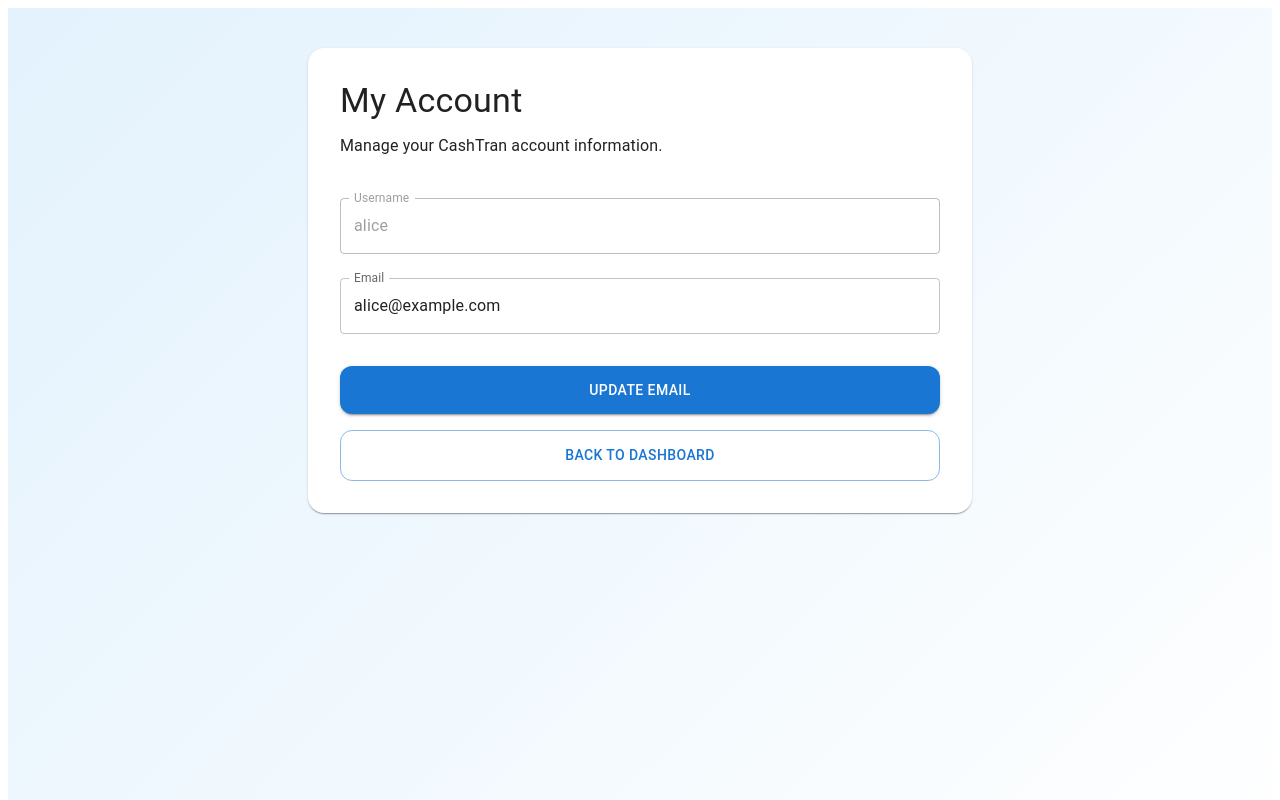
MyAccount › displays success message after successful email update
This screenshot has width=1280, height=800.
Step 1. Replace the text in the field labelled "Email" with "new@example.com" → coordinates (640, 306), box x1=340 y1=278 x2=940 y2=334
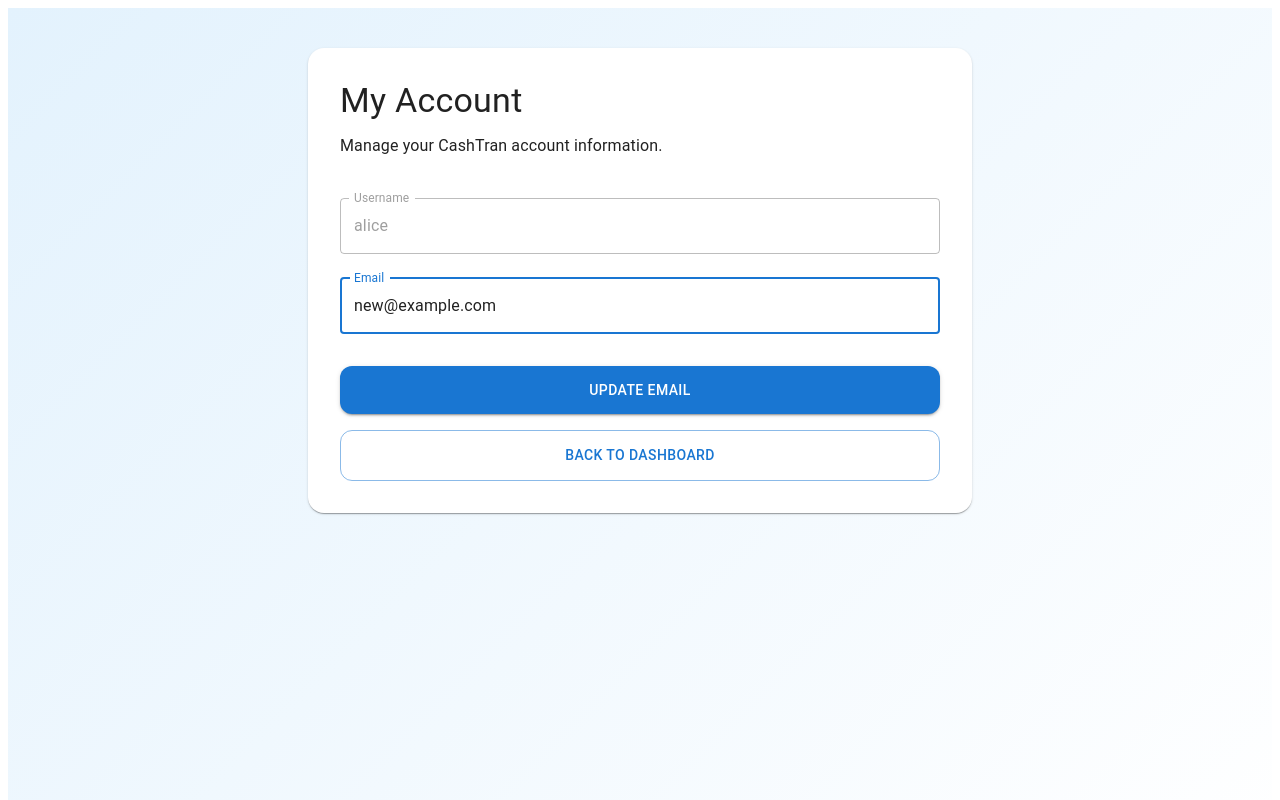
Step 2. Click the button "Update Email" → coordinates (640, 390), box x1=340 y1=366 x2=940 y2=414
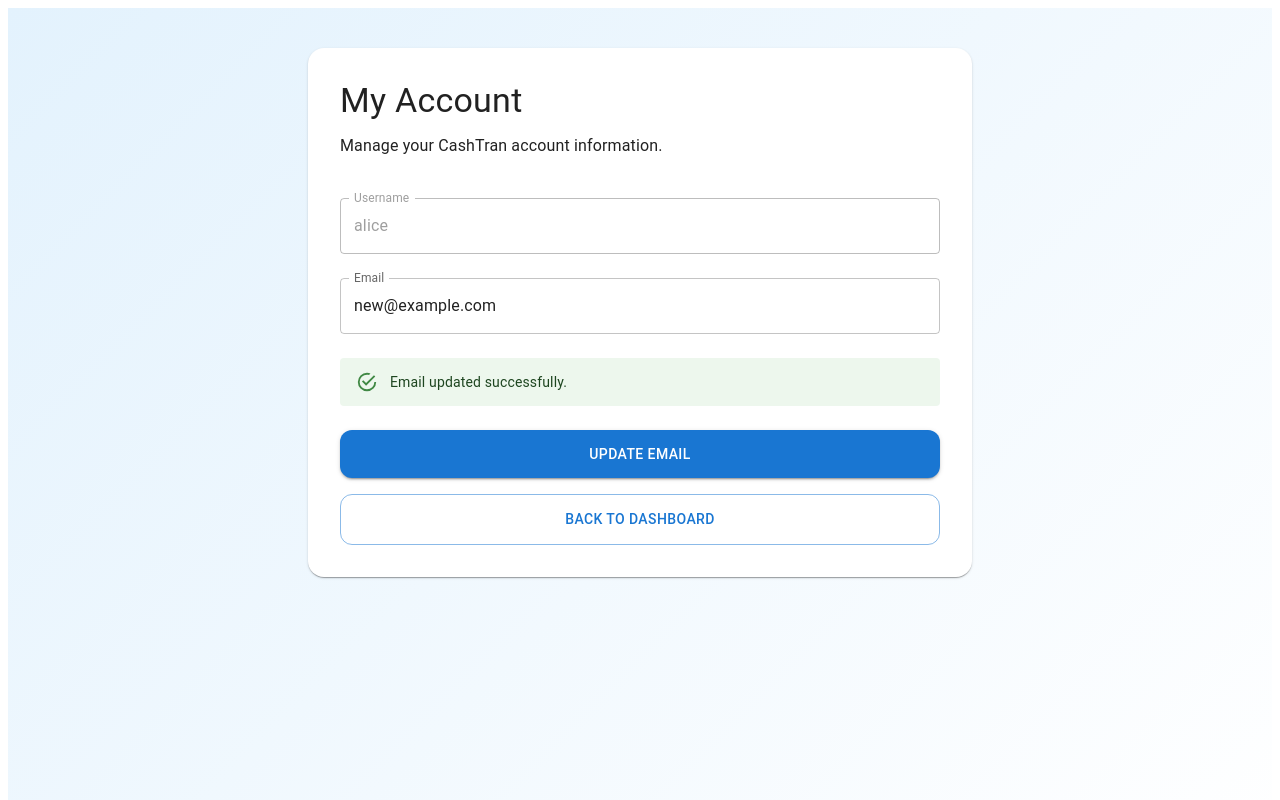
Expected: the text "Email updated successfully." is shown, x1=390 y1=374 x2=567 y2=390
